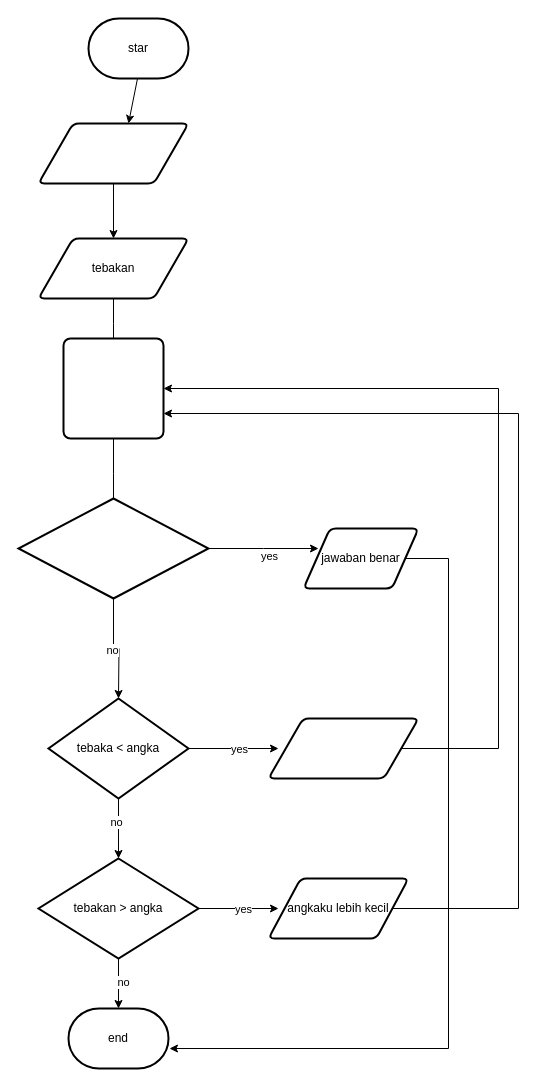
This 544x1086 diagram has some shape labels left out. Each missing label, with the box of its shape:
angkaku lebih besar: (267, 717, 419, 779)
menebak: (62, 337, 164, 439)
pilih angka 1-100: (37, 122, 189, 184)
tebakan = angka: (17, 497, 209, 599)
